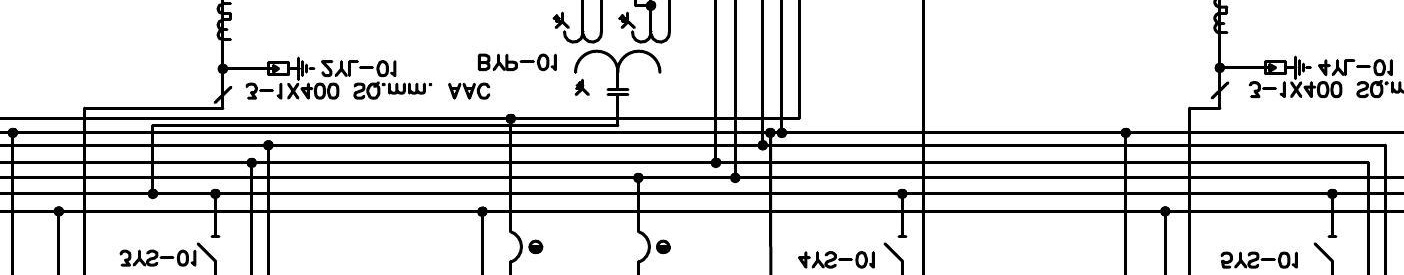115_cvt_3p: (552, 11, 672, 96)
115_ds: (196, 235, 222, 263), (883, 235, 909, 263), (1313, 235, 1339, 263)
115_la: (1264, 55, 1313, 81), (267, 56, 316, 82)
